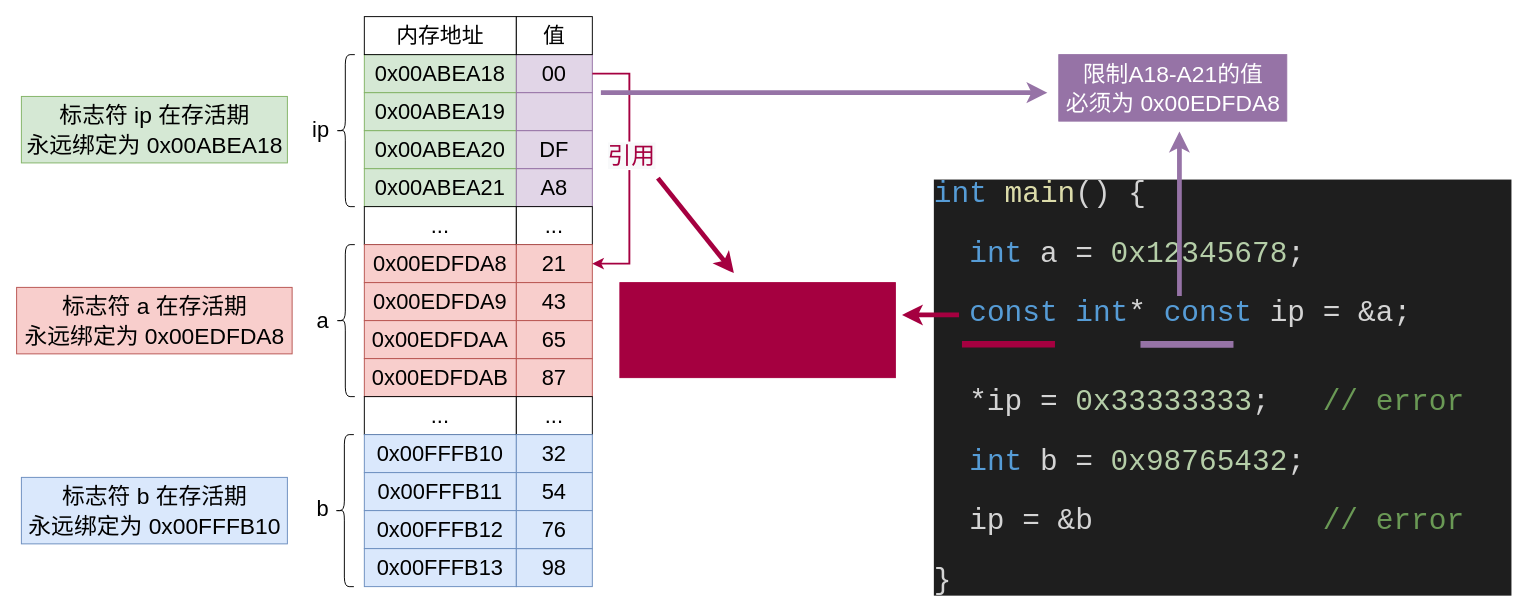
This 1529x613 diagram has some shape labels left out. Here are the shapes that lost their labels. From the top down, the centre of each, then its label:
At (x=553, y=111): "DE".
At (x=757, y=330): "限制引用关系为 只可读不可写 （不可修改 A8-AB 的值）".
